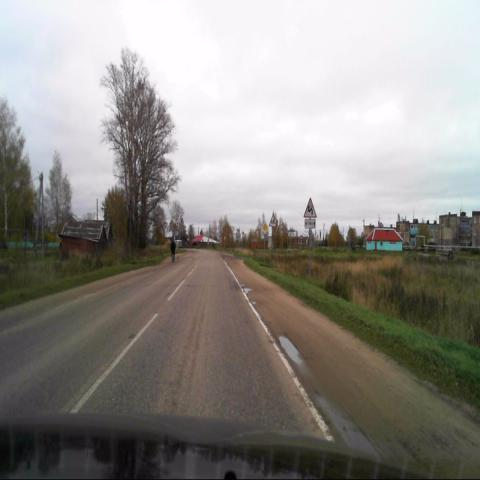1_12_2: (304, 198, 316, 218)
